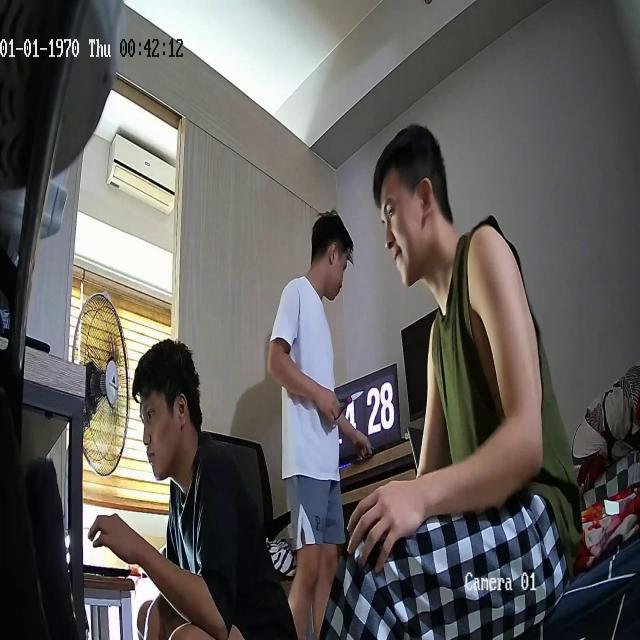scissor: (335, 390, 363, 421)
